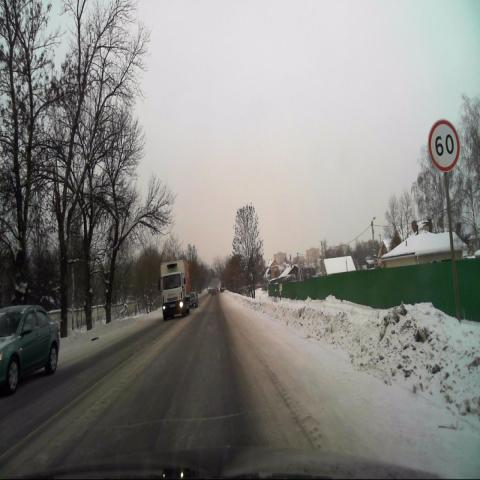3_24: (428, 120, 459, 172)
